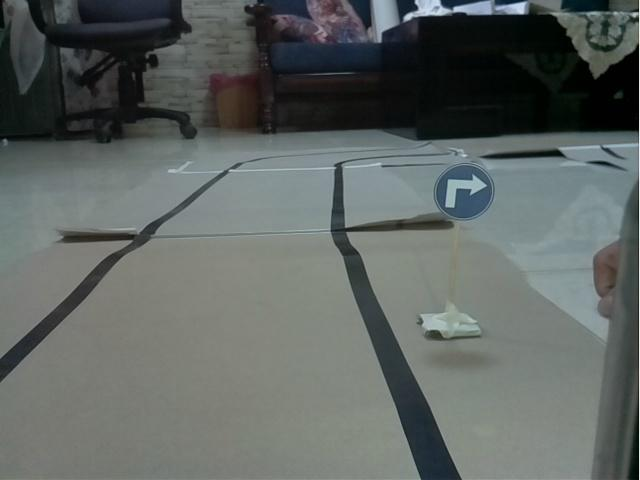turn: (433, 161, 496, 220)
